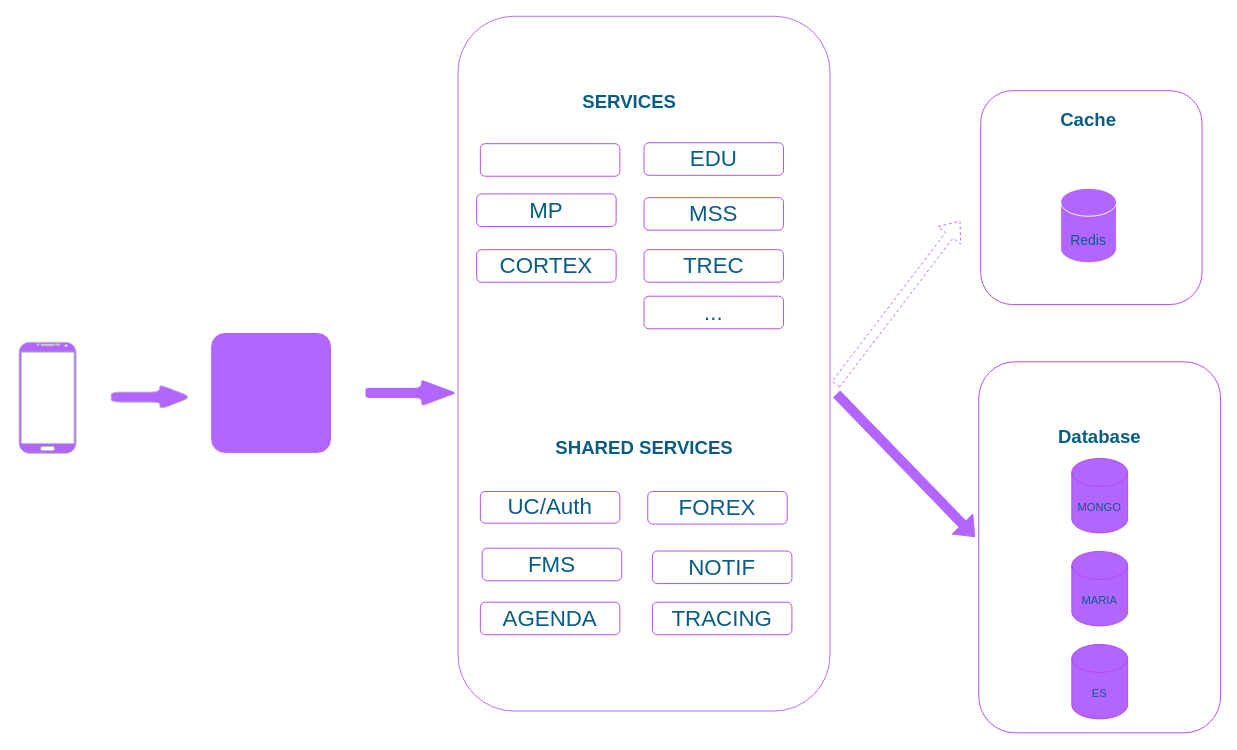
The diagram is 1237 pixels wide and 750 high, and some of its shapes have lost their labels. The shapes that lost their labels are listed below. From the top down, each one's centre as x and y in pixels, then its label:
point (549, 159): CHAT
point (47, 397): User
point (271, 392): API Gateway
